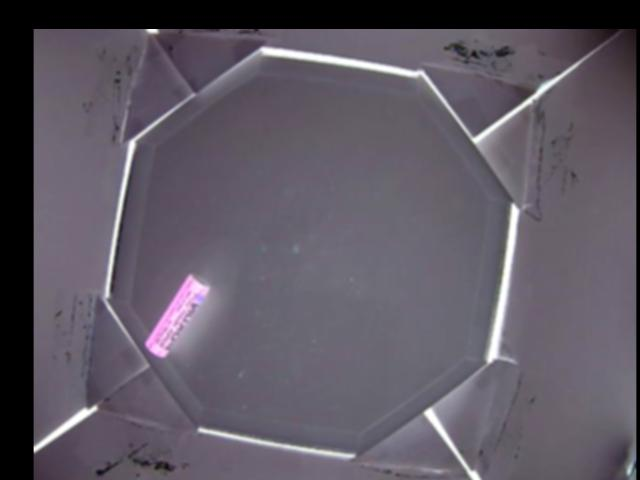Battery: (145, 275, 213, 358)
